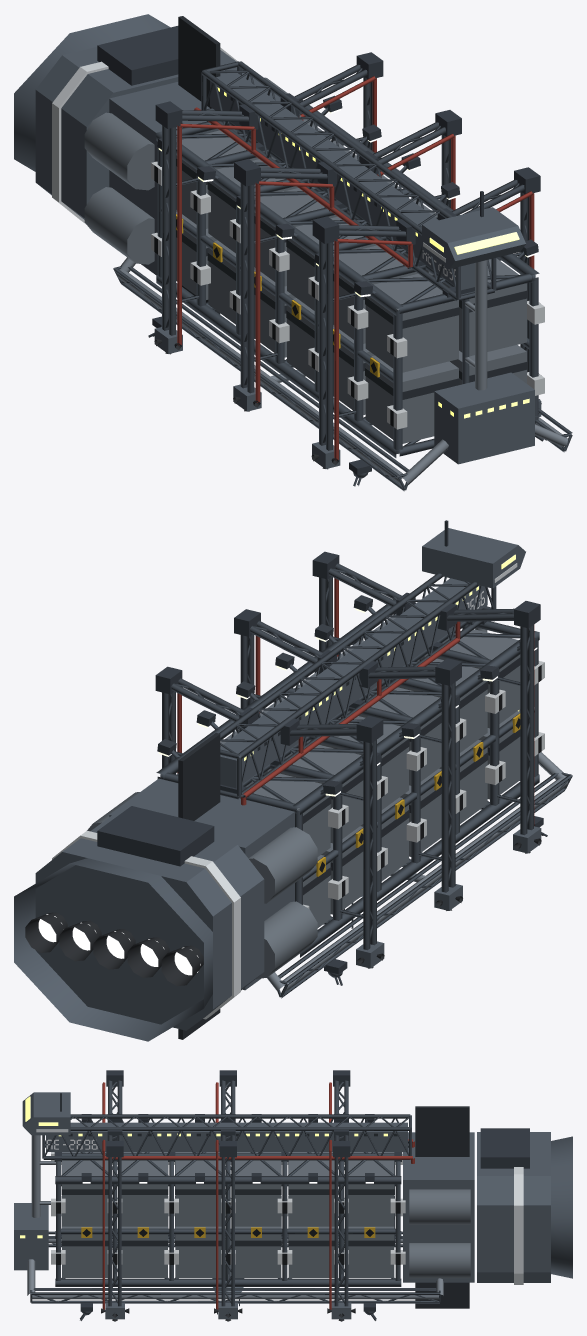
File: crawler_navy.glb
3 renders of one model, top to bottom at view 1: azimuth 30°, elevation 25°; view 2: azimuth 150°, elevation 25°; view 3: azimuth 270°, elevation 25°, orthographic. The views are drawn at different scales.
Parts seen in each view (by area): view 1: trussFrame, spineFrame, engineBlock, spineDeck, crewCompartment, cargoCube21_body, trussClamp, serviceCore, engineSkirt, leg3_frame, linkCarrierStarboard, bridgeHull (+41 smaller); view 2: engineBlock, trussFrame, spineFrame, spineDeck, engineSkirt, serviceCore, engineHousing, bridgeHull, leg3_frame, linkCarrierStarboard, leg1_frame, leg5_frame (+34 smaller); view 3: trussFrame, engineBlock, spineDeck, spineFrame, serviceCore, linkCarrierPort, engineSkirt, radiator0, cargoCube8_body, cargoCube16_body, cargoCube0_body, cargoCube4_body (+41 smaller).
Part boxes in pixels (x1=…): trussFrame: x1=156, y1=100, x2=539, y2=457; spineFrame: x1=201, y1=61, x2=496, y2=301; engineBlock: x1=35, y1=47, x2=236, y2=219; spineDeck: x1=210, y1=73, x2=487, y2=290; crewCompartment: x1=434, y1=372, x2=534, y2=464; cargoCube21_body: x1=365, y1=273, x2=458, y2=372; trussClamp: x1=151, y1=161, x2=544, y2=429; serviceCore: x1=109, y1=67, x2=280, y2=275; engineSkirt: x1=14, y1=14, x2=170, y2=171; leg3_frame: x1=240, y1=167, x2=327, y2=393; linkCarrierStarboard: x1=113, y1=266, x2=408, y2=491; bridgeHull: x1=422, y1=207, x2=525, y2=269; engineBlock: x1=35, y1=814, x2=264, y2=1030; trussFrame: x1=156, y1=599, x2=539, y2=957; spineFrame: x1=219, y1=573, x2=496, y2=799; spineDeck: x1=220, y1=578, x2=487, y2=788; engineSkirt: x1=14, y1=858, x2=212, y2=1041; serviceCore: x1=109, y1=778, x2=294, y2=990; engineHousing: x1=97, y1=806, x2=214, y2=866; bridgeHull: x1=422, y1=528, x2=525, y2=588; leg3_frame: x1=368, y1=666, x2=455, y2=892; linkCarrierStarboard: x1=277, y1=772, x2=572, y2=998; leg1_frame: x1=289, y1=724, x2=376, y2=950; leg5_frame: x1=447, y1=608, x2=533, y2=835; trussFrame: x1=55, y1=1152, x2=401, y2=1286; engineBlock: x1=477, y1=1132, x2=550, y2=1282; spineDeck: x1=46, y1=1122, x2=407, y2=1151; spineFrame: x1=42, y1=1114, x2=411, y2=1159; serviceCore: x1=403, y1=1132, x2=474, y2=1282; linkCarrierPort: x1=30, y1=1288, x2=440, y2=1303; engineSkirt: x1=551, y1=1136, x2=572, y2=1278; radiator0: x1=415, y1=1106, x2=469, y2=1156; cargoCube8_body: x1=235, y1=1161, x2=281, y2=1226; cargoCube16_body: x1=121, y1=1161, x2=167, y2=1226; cargoCube0_body: x1=348, y1=1161, x2=394, y2=1226; cargoCube4_body: x1=288, y1=1161, x2=334, y2=1226.
Size of the model in its own units: 153 by 200 by 454.
